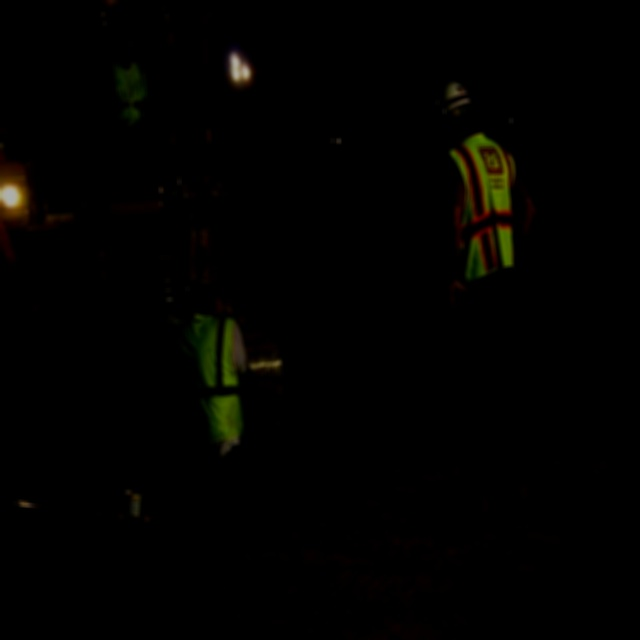Con_Casco: (434, 81, 474, 127)
Con_Chaleco: (450, 138, 518, 274), (173, 317, 245, 442), (114, 62, 151, 124)
